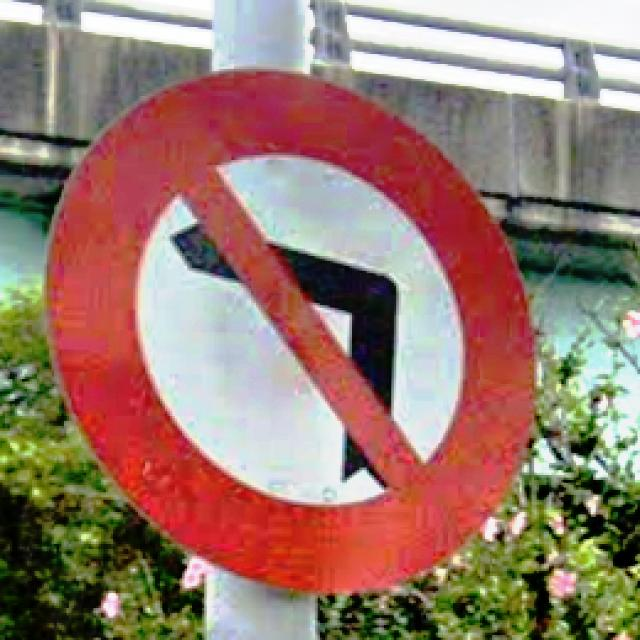noturnleft: (44, 69, 537, 596)
